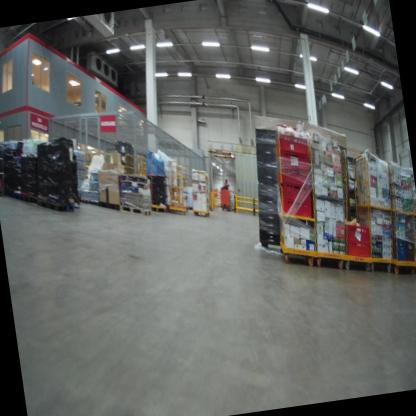pallet: (37, 192, 76, 214), (118, 199, 153, 219)
pallet_truck: (217, 183, 238, 216)
